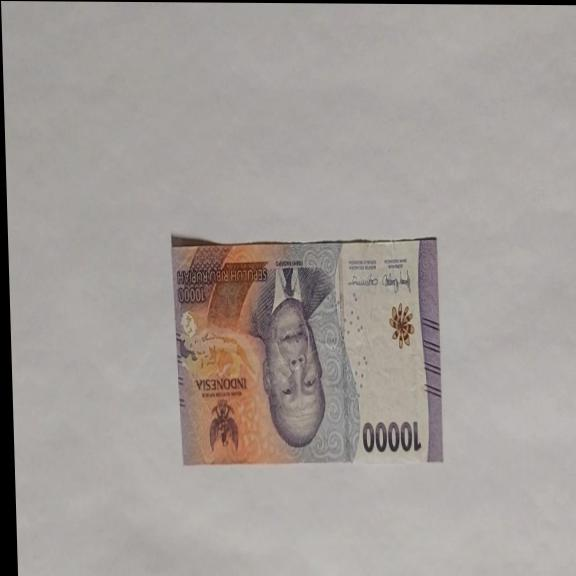Kertas: (170, 235, 443, 468), (360, 419, 422, 456)
